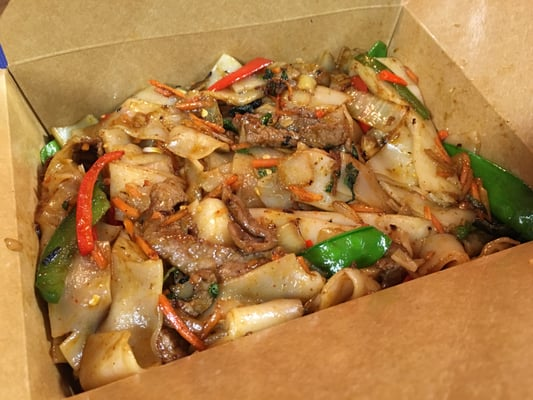sandwich: (24, 35, 533, 381)
